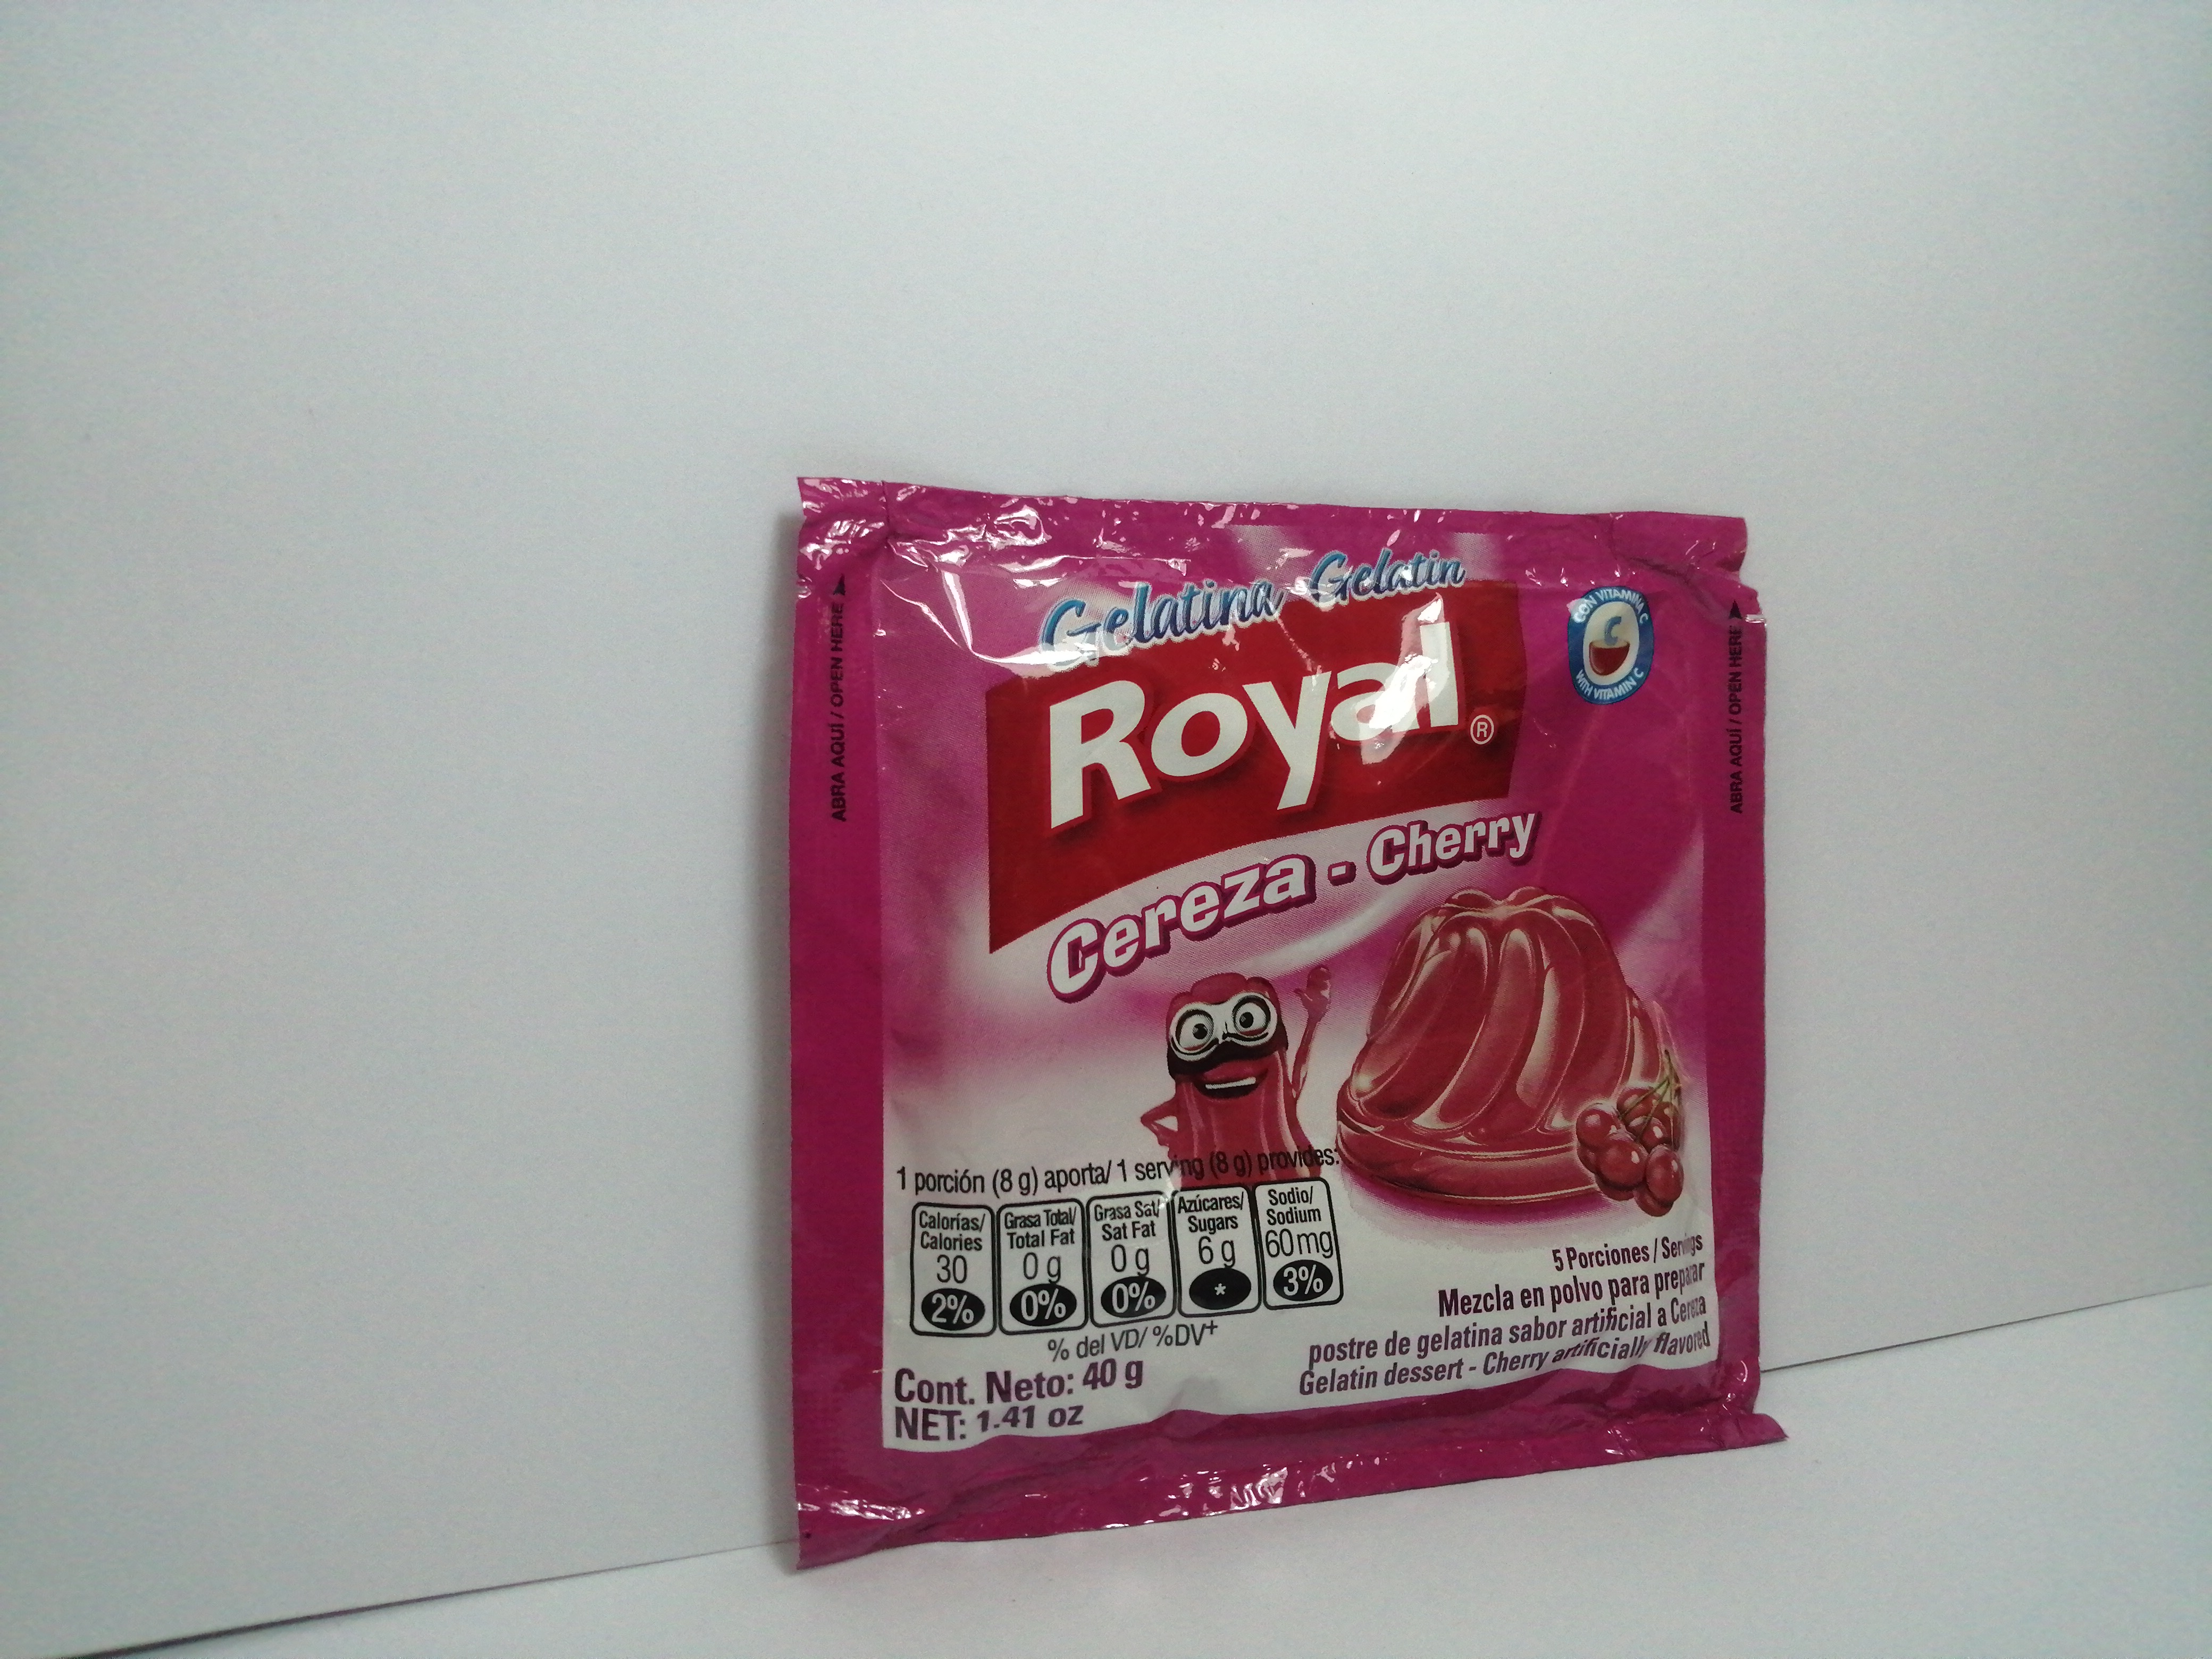gelatina: (782, 474, 1799, 1561)
